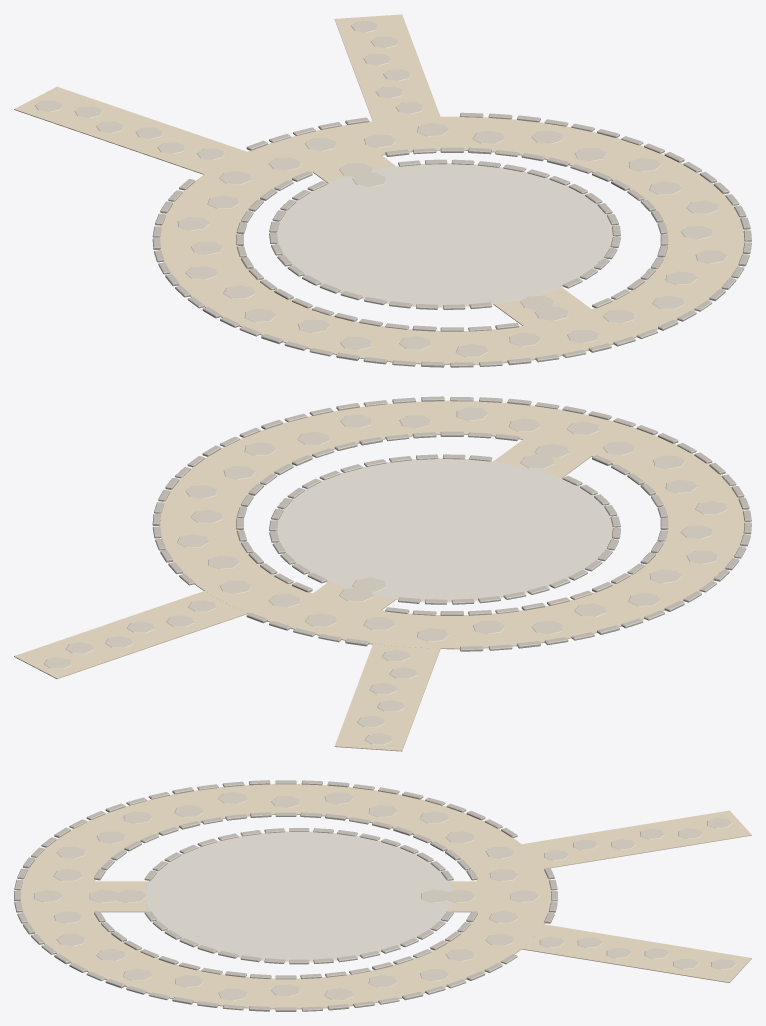
File: Park_Pathway.fbx
3 renders of one model, top to bottom at view 1: azimuth 30°, elevation 25°; view 2: azimuth 150°, elevation 25°; view 3: azimuth 270°, elevation 25°, orthographic. The views are drawn at different scales.
Parts seen in each view (by area): view 1: Park_Pathway; view 2: Park_Pathway; view 3: Park_Pathway.
Part boxes in pixels (x1,y1,x2,y2): Park_Pathway: (14,14,751,367); Park_Pathway: (14,396,751,751); Park_Pathway: (14,780,751,1011).
Size of the model in its own units: 10.33 by 0.052 by 14.01.
